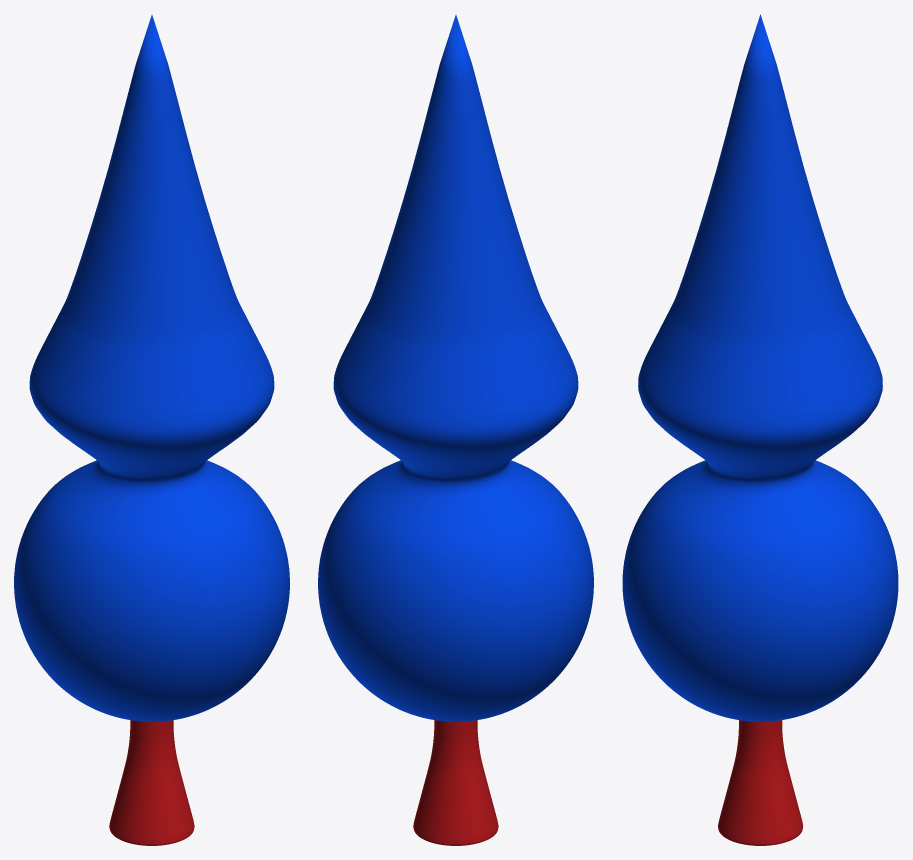
Rendered from top4.fbx.
3 views of the same model, side by side, from view 1: azimuth 30°, elevation 25°; view 2: azimuth 150°, elevation 25°; view 3: azimuth 270°, elevation 25° (orthographic).
Visible parts, largest first — view 1: Sphere.001; view 2: Sphere.001; view 3: Sphere.001.
Boxes of the visible parts, x1=… form: Sphere.001: x1=14, y1=15, x2=289, y2=845; Sphere.001: x1=318, y1=15, x2=593, y2=845; Sphere.001: x1=622, y1=14, x2=898, y2=845.
Size of the model in its own units: 13.82 by 45.02 by 13.82.
